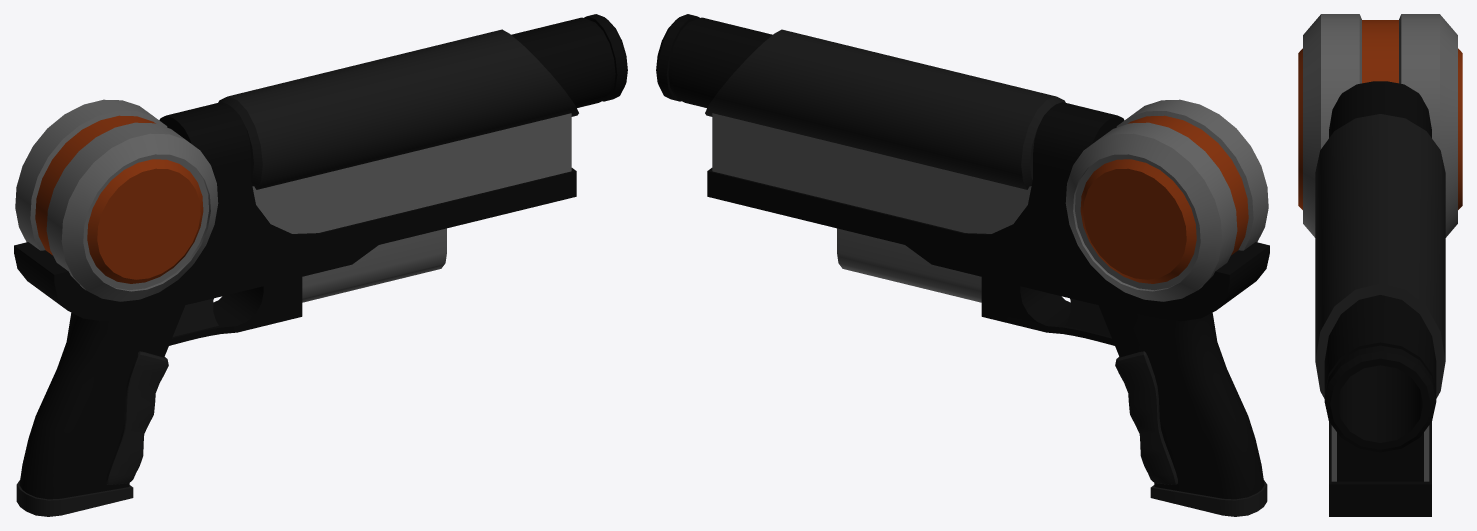
Rendered from Pistol_1.obj.
The picture shows the model from 3 angles, left to right: view 1: azimuth 30°, elevation 25°; view 2: azimuth 150°, elevation 25°; view 3: azimuth 270°, elevation 25°; orthographic projection. The views are drawn at different scales.
Visible parts, largest first — view 1: Pistol_1_Cube.074; view 2: Pistol_1_Cube.074; view 3: Pistol_1_Cube.074.
Boxes of the visible parts, x1,y1,x2,y2 form: Pistol_1_Cube.074: (14, 14, 627, 516); Pistol_1_Cube.074: (656, 14, 1269, 516); Pistol_1_Cube.074: (1298, 14, 1462, 516).
Bounding box in the file's own units: 0.9344 × 0.5605 × 0.1782.
